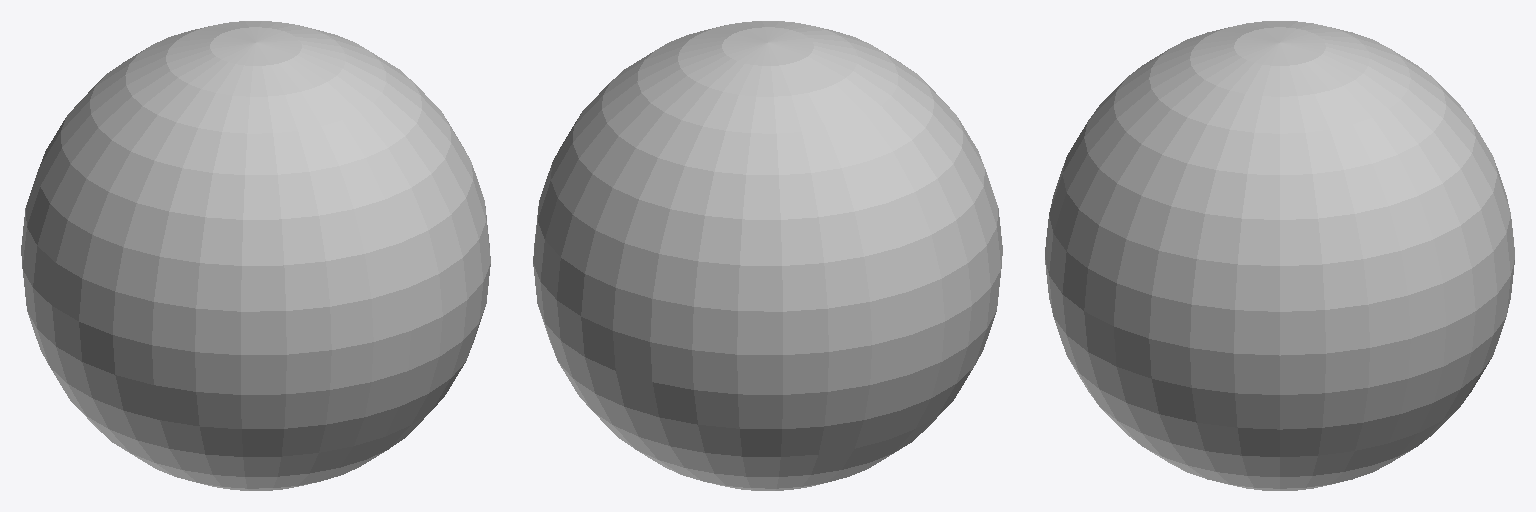
The model's file is bead2.obj.
3 renders of one model, left to right at view 1: azimuth 30°, elevation 25°; view 2: azimuth 150°, elevation 25°; view 3: azimuth 270°, elevation 25°, orthographic.
Visible parts, largest first — view 1: Sphere; view 2: Sphere; view 3: Sphere.
Part boxes in pixels (x1,y1,x2,y2): Sphere: (21,21,490,490); Sphere: (533,21,1002,490); Sphere: (1045,21,1514,490).
Bounding box in the file's own units: 0.4471 × 0.4471 × 0.4471.